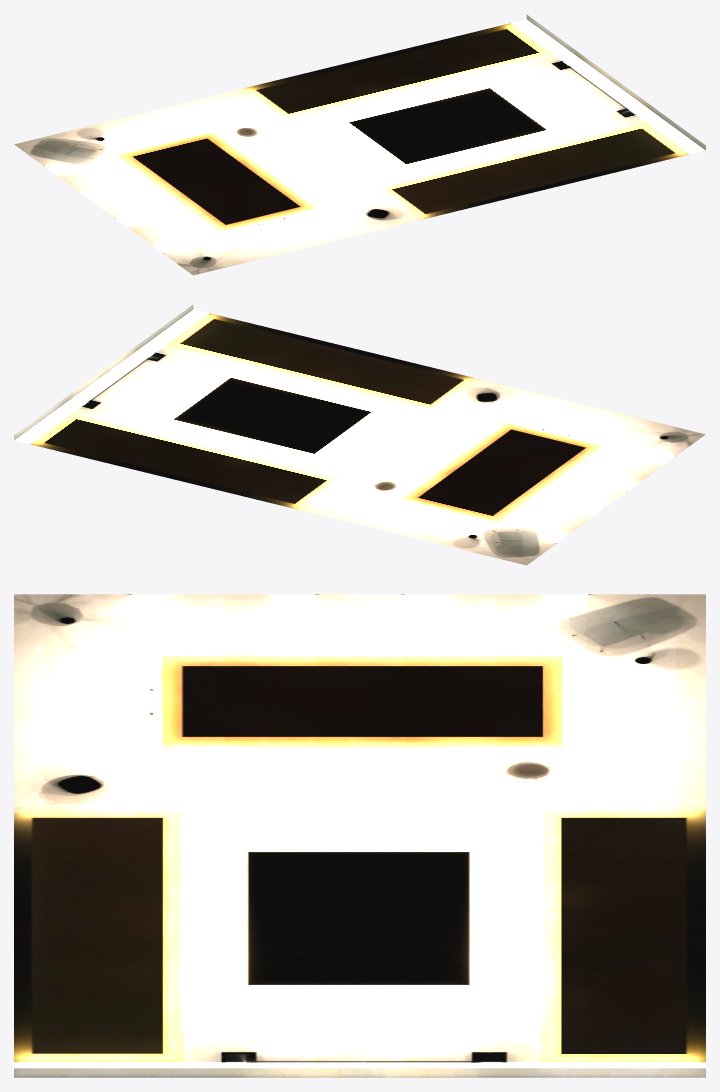
Rendered from Armano_Beige.glb.
The picture shows the model from 3 angles, top to bottom: view 1: azimuth 30°, elevation 25°; view 2: azimuth 150°, elevation 25°; view 3: azimuth 270°, elevation 25°; orthographic projection. The views are drawn at different scales.
Parts seen in each view (by area): view 1: Armano_Beige.001; view 2: Armano_Beige.001; view 3: Armano_Beige.001.
Part boxes in pixels (x1,y1,x2,y2): Armano_Beige.001: [14, 14, 705, 275]; Armano_Beige.001: [14, 304, 705, 565]; Armano_Beige.001: [14, 594, 705, 1077].
Size of the model in its own units: 8.36 by 0.0748 by 5.06.
Materials: 1 (1 with a texture image).
